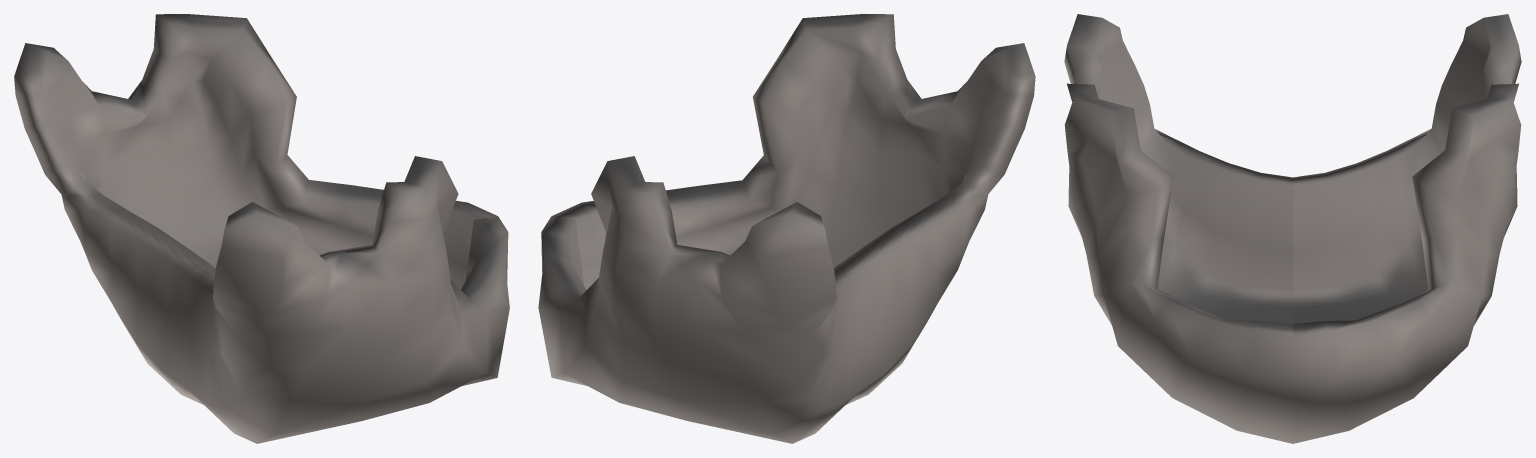
File: skull_sita_01.fbx
The picture shows the model from 3 angles, left to right: view 1: azimuth 30°, elevation 25°; view 2: azimuth 150°, elevation 25°; view 3: azimuth 270°, elevation 25°; orthographic projection. The views are drawn at different scales.
Visible parts, largest first — view 1: skull_sita_01; view 2: skull_sita_01; view 3: skull_sita_01.
Part boxes in pixels (<box>): skull_sita_01: <box>14,14,509,443</box>; skull_sita_01: <box>538,14,1035,443</box>; skull_sita_01: <box>1064,14,1521,443</box>.
Bounding box in the file's own units: 0.3478 × 0.2653 × 0.3917.
Materials: 1 (1 with a texture image).
